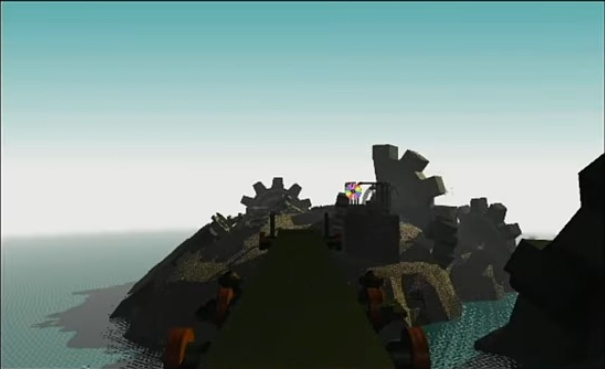Keep: (339, 179, 365, 201)
